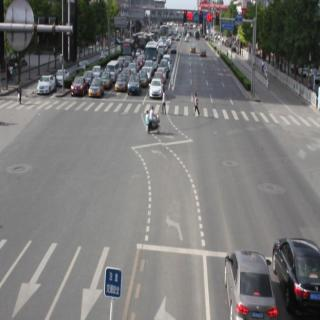Car: (267, 230, 320, 320), (225, 246, 269, 320), (149, 76, 164, 107), (126, 74, 142, 102), (37, 68, 54, 94), (144, 38, 158, 69), (55, 60, 68, 90), (115, 70, 131, 94), (92, 79, 105, 106), (72, 76, 86, 100), (108, 56, 119, 82), (78, 56, 90, 75)
